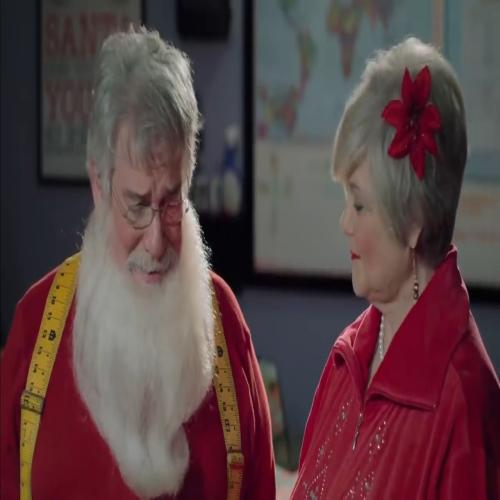Santa: (4, 28, 273, 500)
